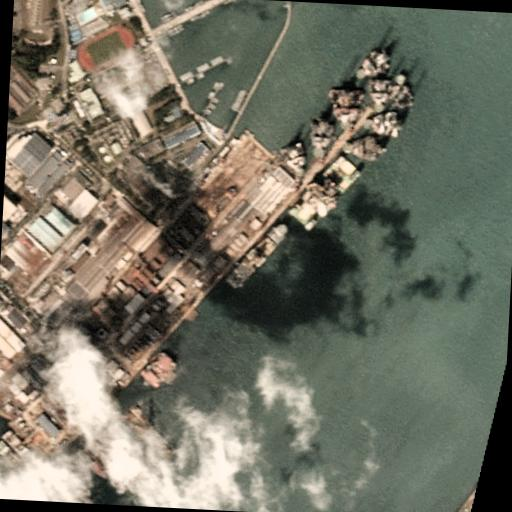ship: (225, 221, 287, 291), (272, 353, 302, 456), (282, 464, 333, 512), (357, 440, 357, 486)
